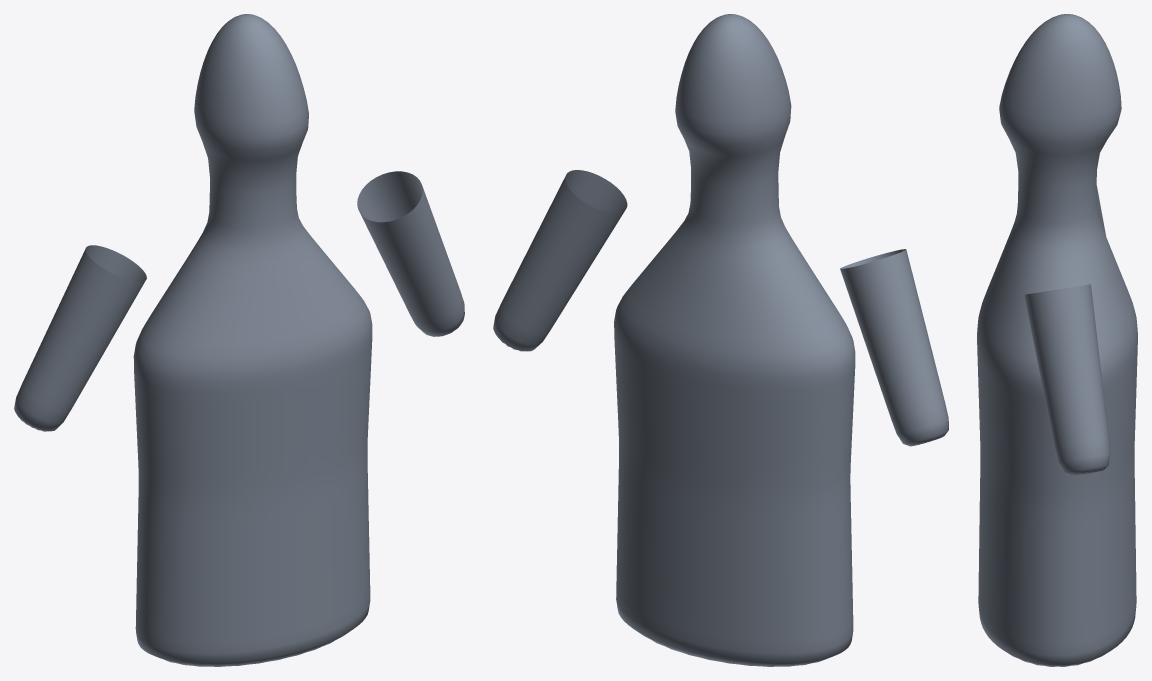
The model's file is avatar_mannequin_proxy.glb.
3 renders of one model, left to right at view 1: azimuth 30°, elevation 25°; view 2: azimuth 150°, elevation 25°; view 3: azimuth 270°, elevation 25°, orthographic. The views are drawn at different scales.
Parts seen in each view (by area): view 1: AvatarCollisionProxy; view 2: AvatarCollisionProxy; view 3: AvatarCollisionProxy.
Part boxes in pixels (x1,y1,x2,y2): AvatarCollisionProxy: (14,14,464,666); AvatarCollisionProxy: (493,14,948,666); AvatarCollisionProxy: (977,14,1137,666).
Bounding box in the file's own units: 0.7585 × 1.01 × 0.2413.
